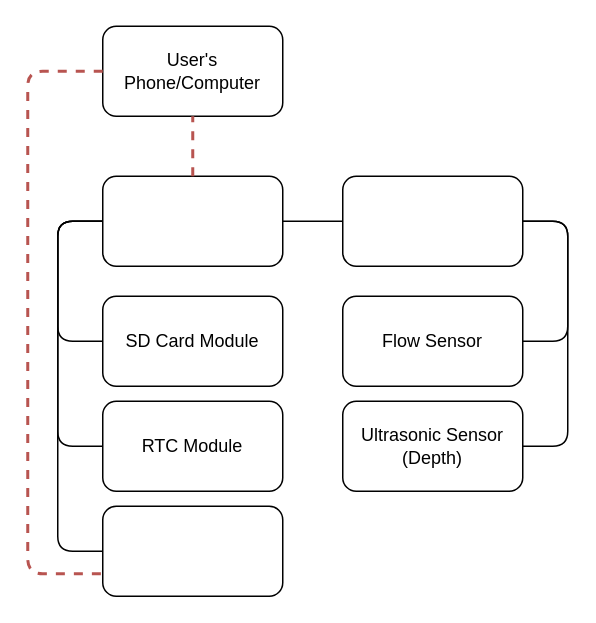
This 596x623 diagram has some shape labels left out. Here are the shapes that lost their labels. From the top down, the centre of each, then its label:
the point at 192,220: NodeMCU
the point at 432,220: Arduino Uno
the point at 192,550: GSM Module
